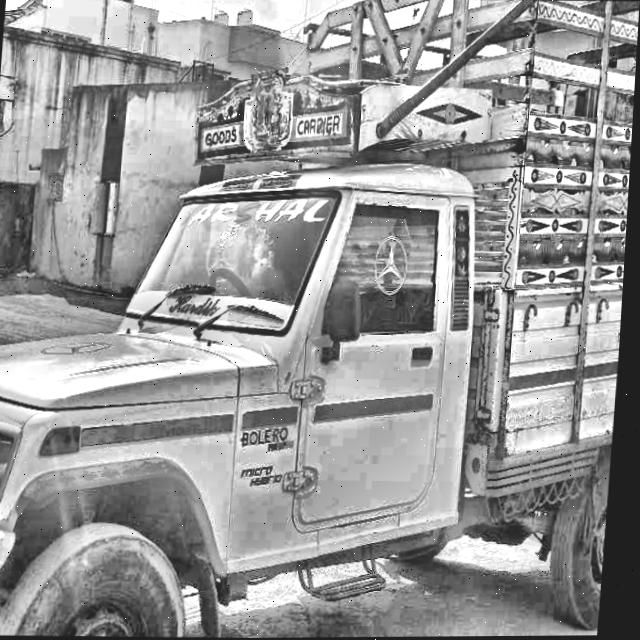light_vehicle: (0, 55, 637, 640)
